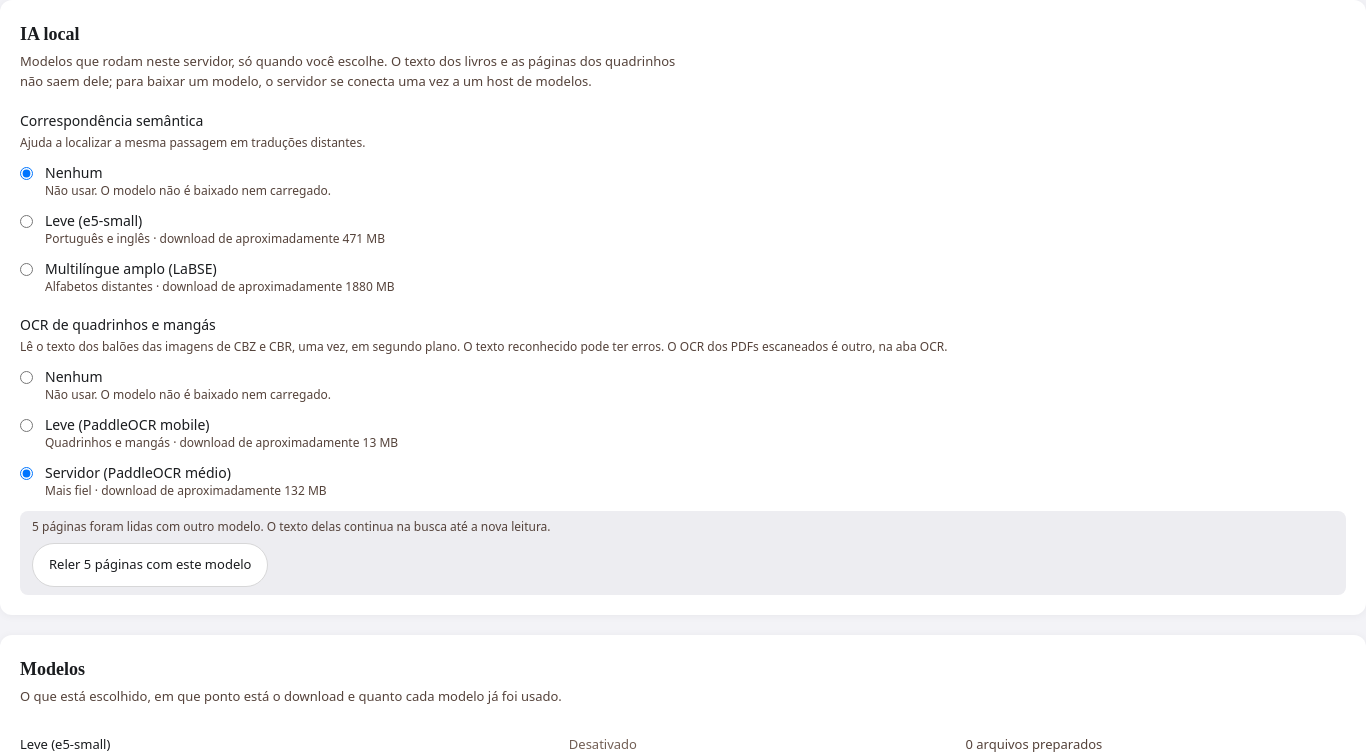
Test: IA local: reading again with the chosen model › says what the server refused
Step 1. Click the button "Reler 5 páginas com este modelo" → {"x": 150, "y": 565}, box [32,543,268,587]
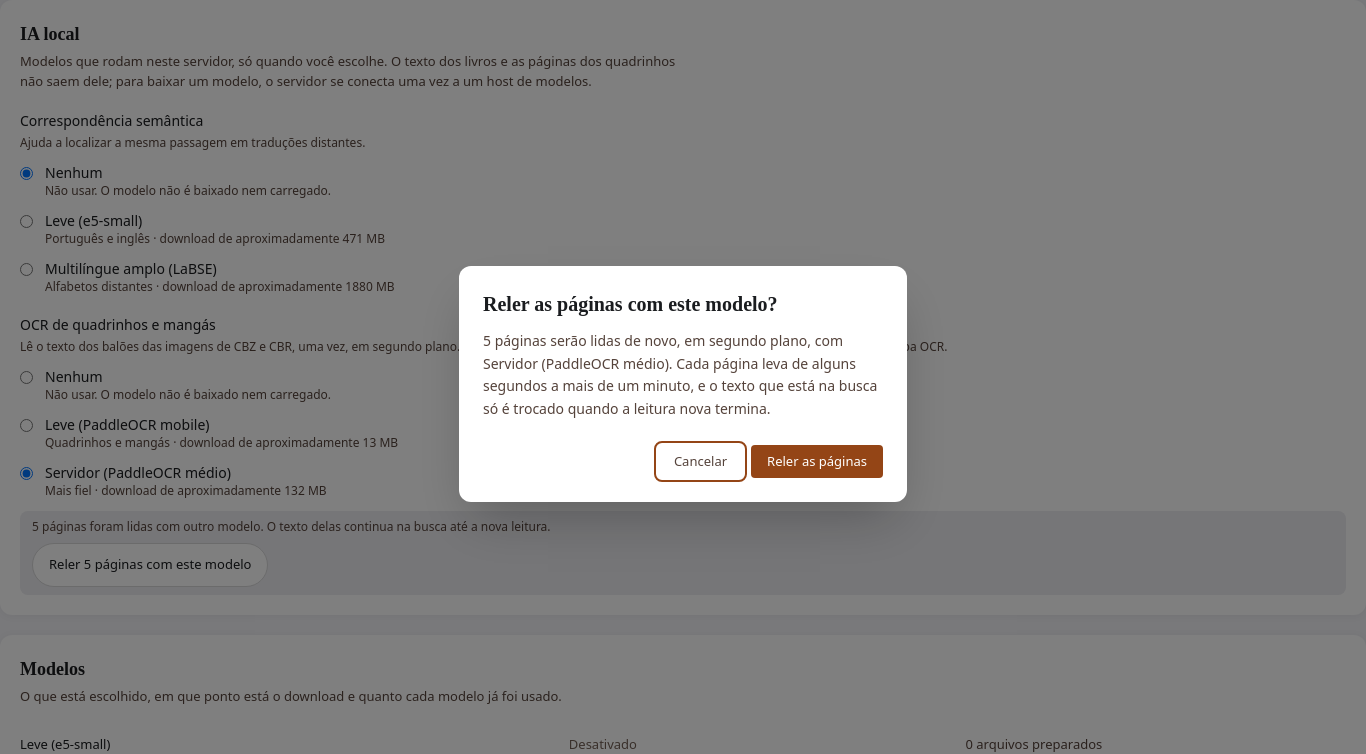
Step 2. Click the button "Reler as páginas" → {"x": 817, "y": 461}, box [751,445,883,478]
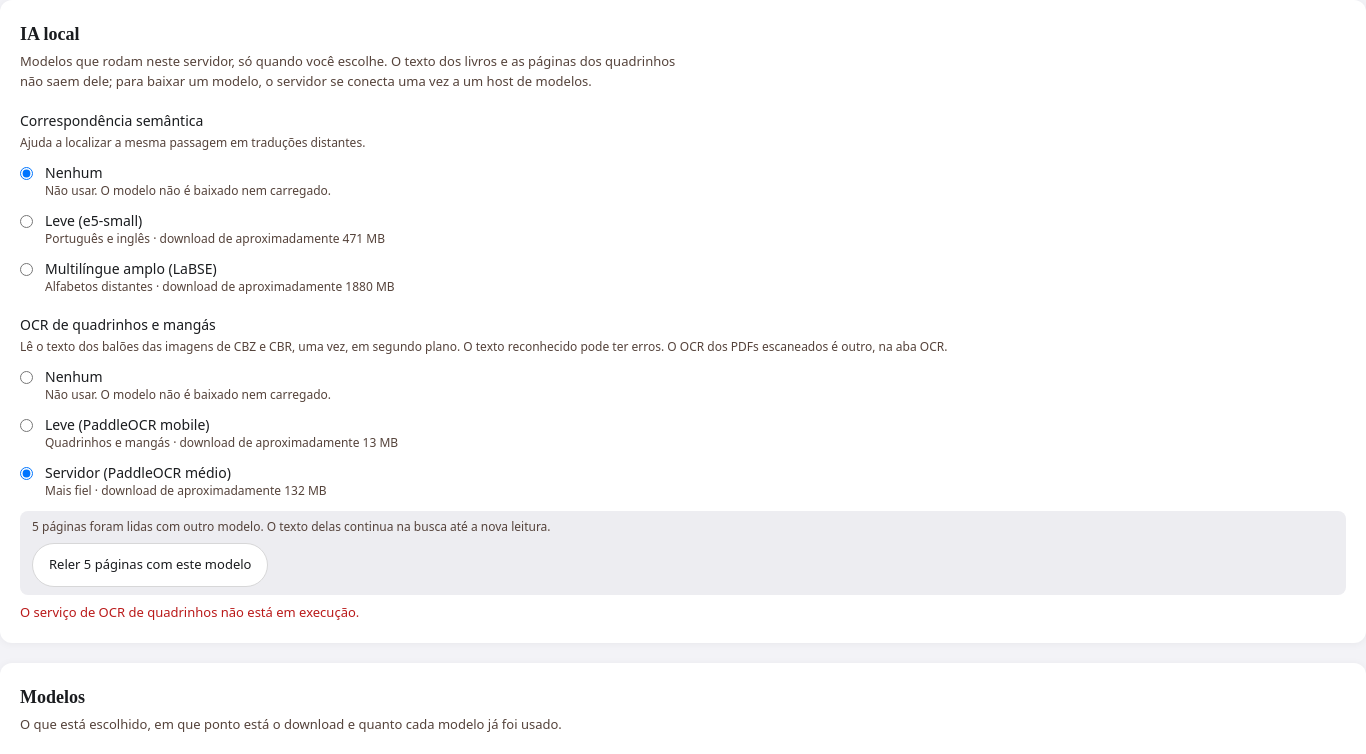
Result: the message "O serviço de OCR de quadrinhos não está em execução." is shown at [20,603,359,621]
